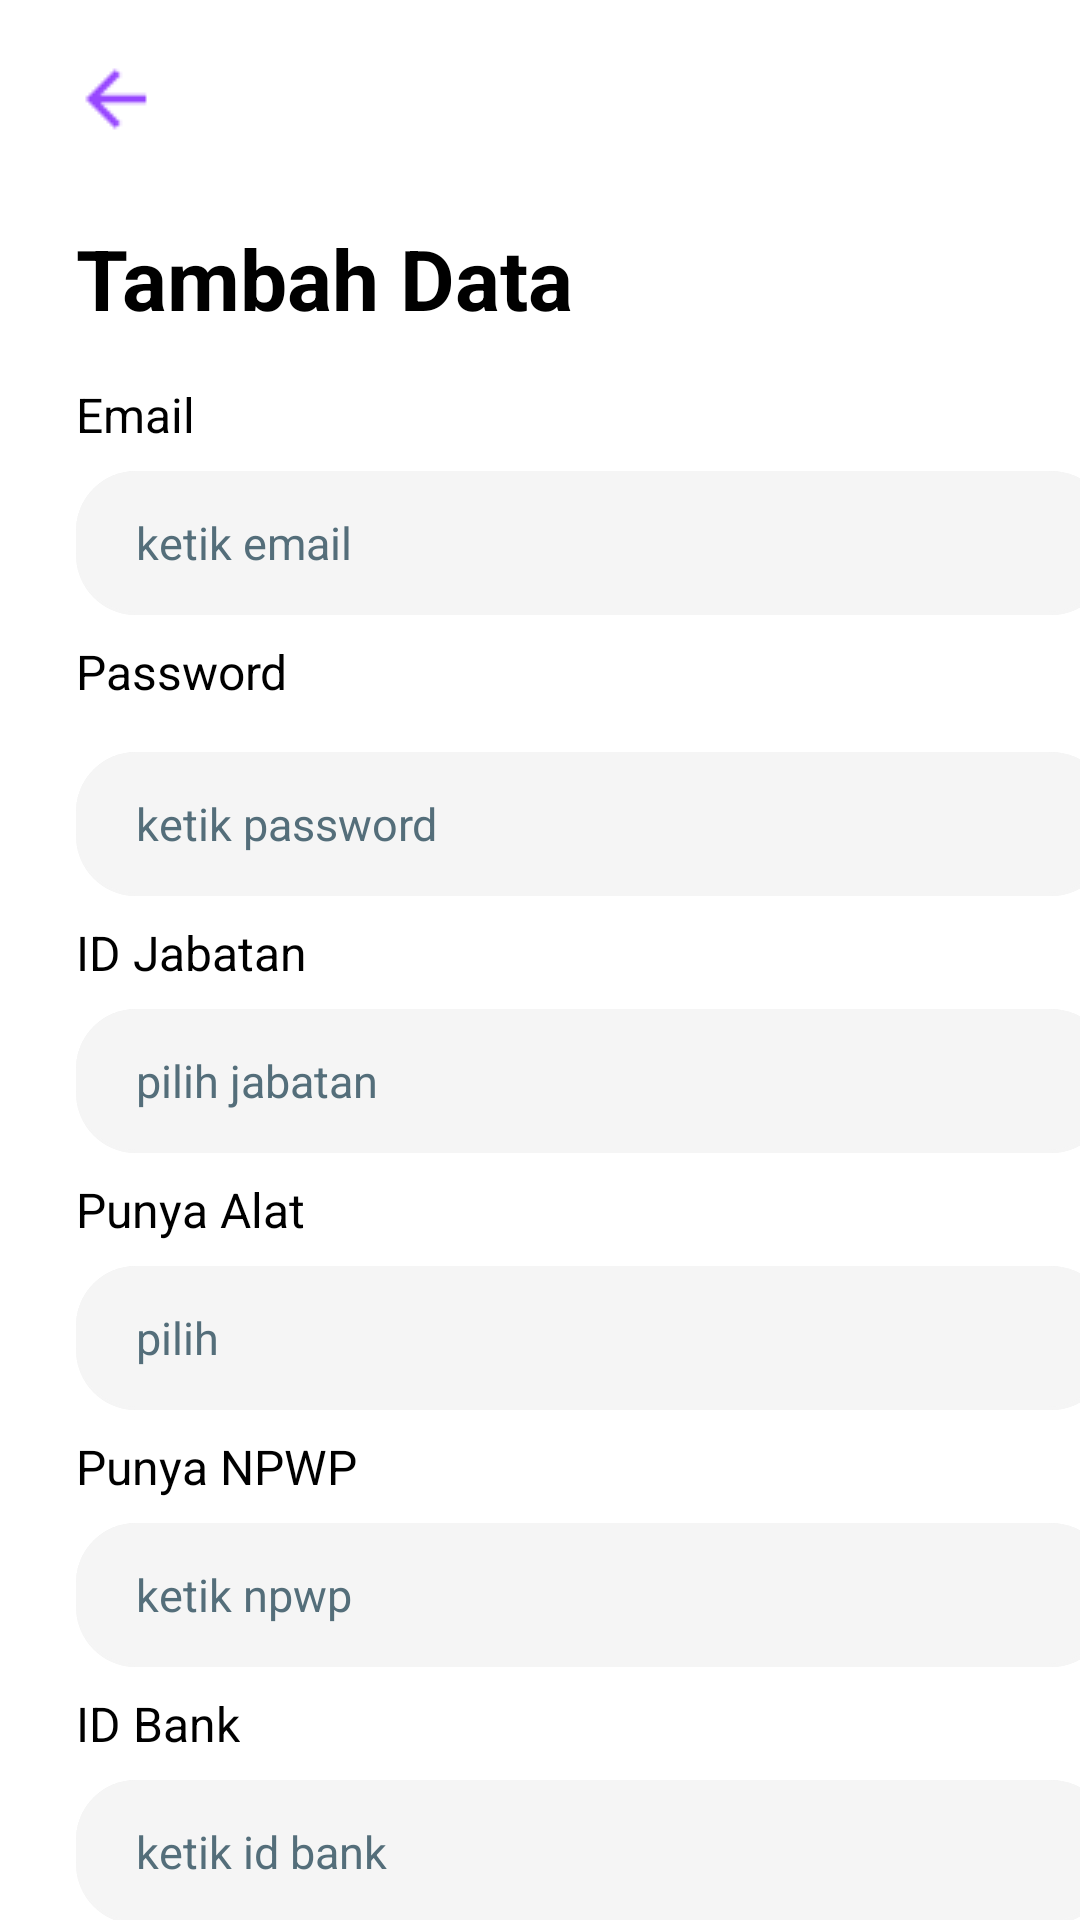

Where to tap for icons on this 1080x1920 app screen, as (x=x, y=y):
arrow left: (x=116, y=99)
